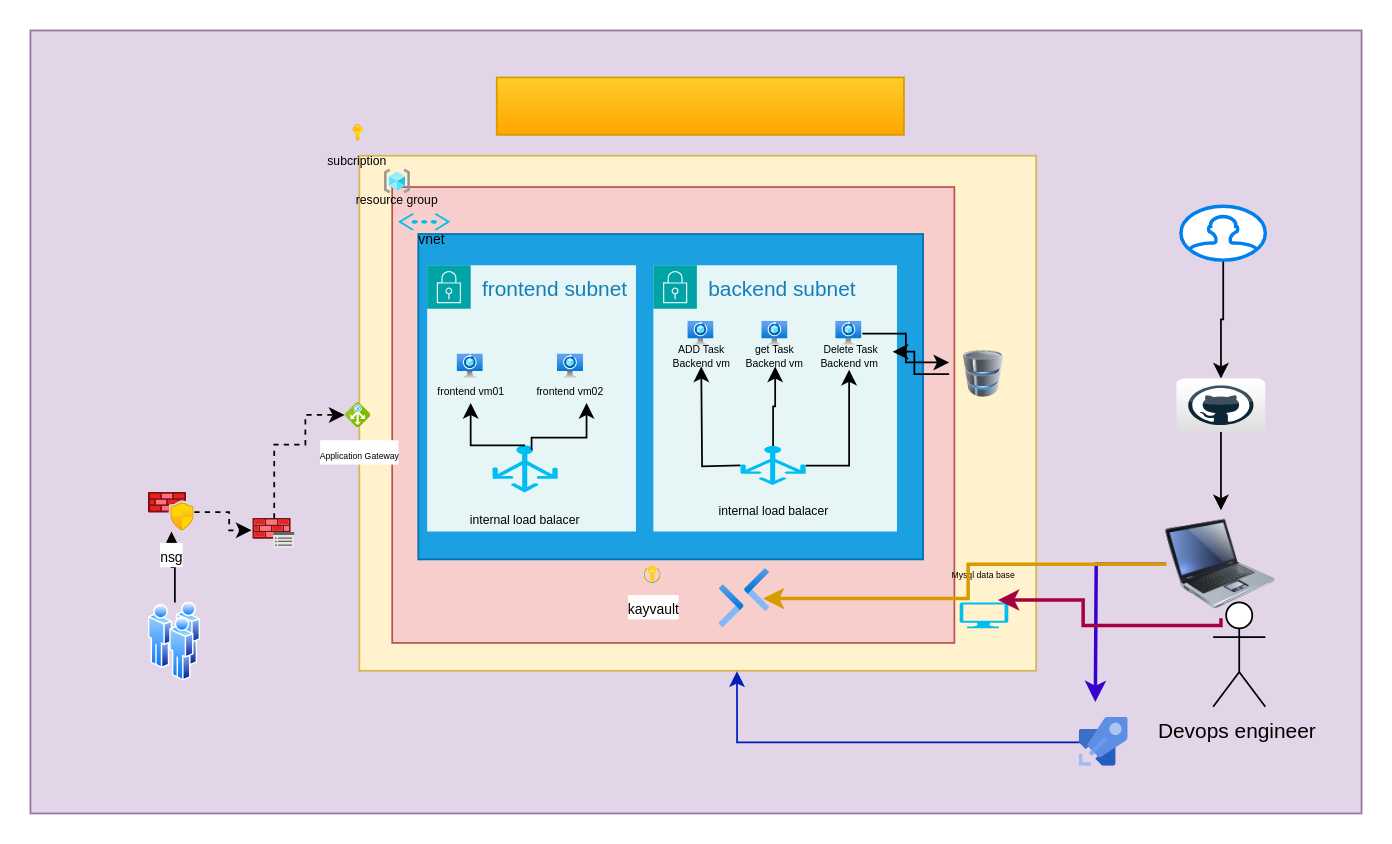
The diagram is 1392 pixels wide and 844 high, and some of its shapes have lost their labels. Here are the shapes that lost their labels. From the top down, the centre of each, then its label:
(x=699, y=105): Monolithic HLD Diagram
(x=1222, y=232): Devloper
(x=273, y=533): firewall
(x=174, y=641): users
